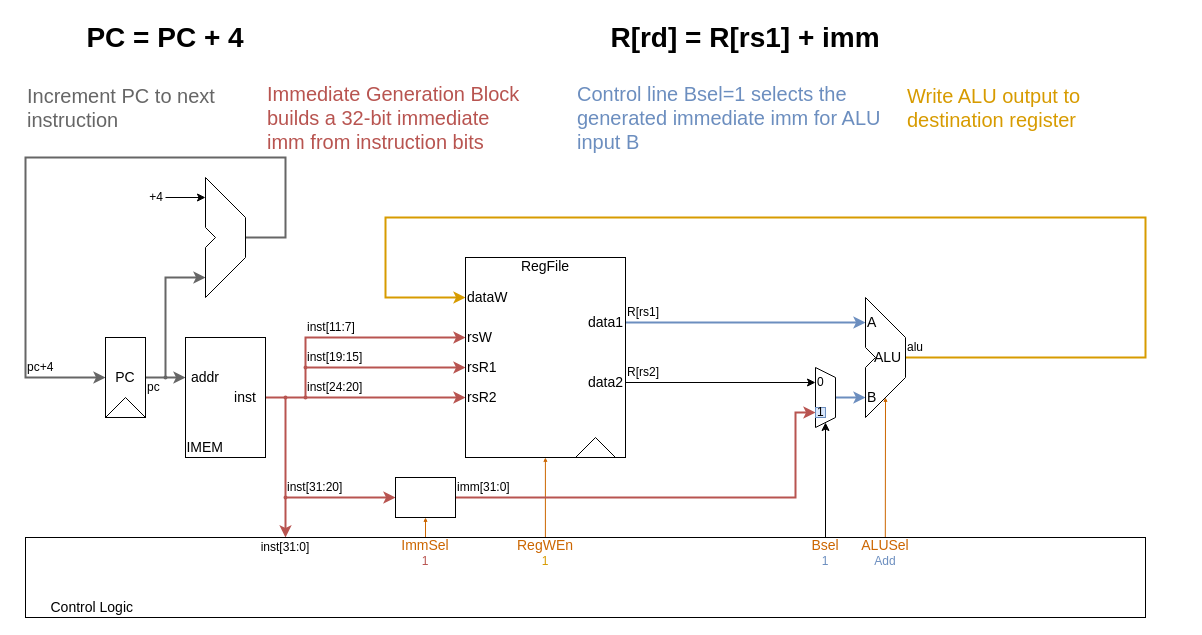
This 1202x635 diagram has some shape labels left out. The shapes that lost their labels are listed below. From the top down, each one's centre as x and y in pixels, then its label:
(225,257): Add
(425,497): Imm. Gen
